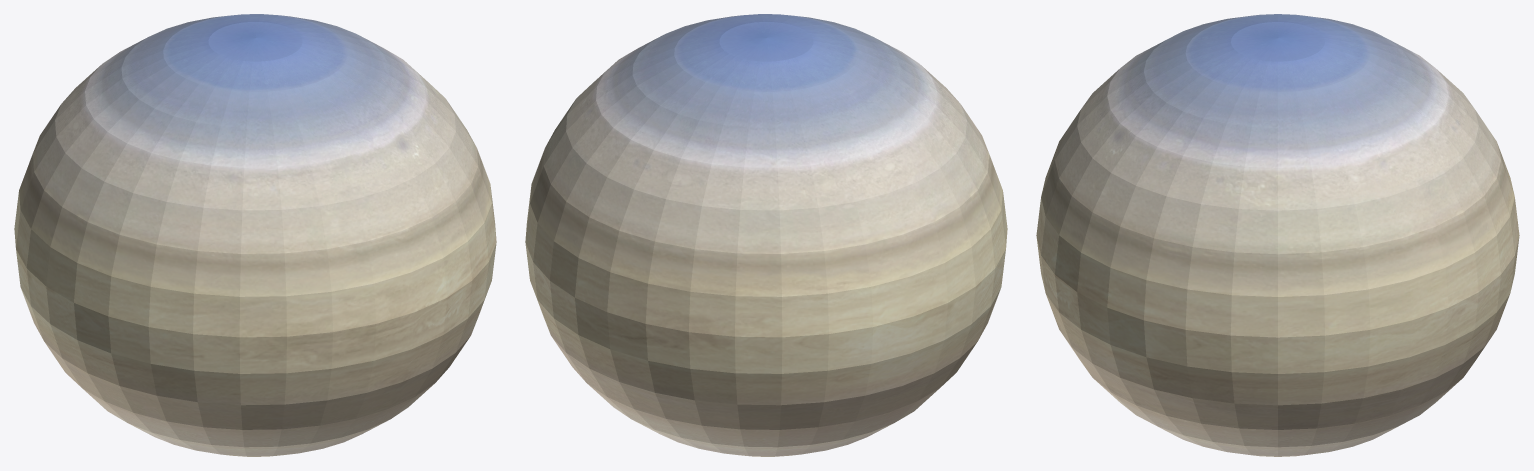
The model's file is saturn.glb.
The picture shows the model from 3 angles, left to right: view 1: azimuth 30°, elevation 25°; view 2: azimuth 150°, elevation 25°; view 3: azimuth 270°, elevation 25°; orthographic projection.
Parts seen in each view (by area): view 1: Sphere; view 2: Sphere; view 3: Sphere.
Boxes of the visible parts, box(x1,y1,x2,y2) form: Sphere: box(14, 14, 496, 456); Sphere: box(525, 14, 1007, 456); Sphere: box(1036, 14, 1519, 456).
Bounding box in the file's own units: 12.05 × 10.87 × 12.05.
1 material, 1 textured.
